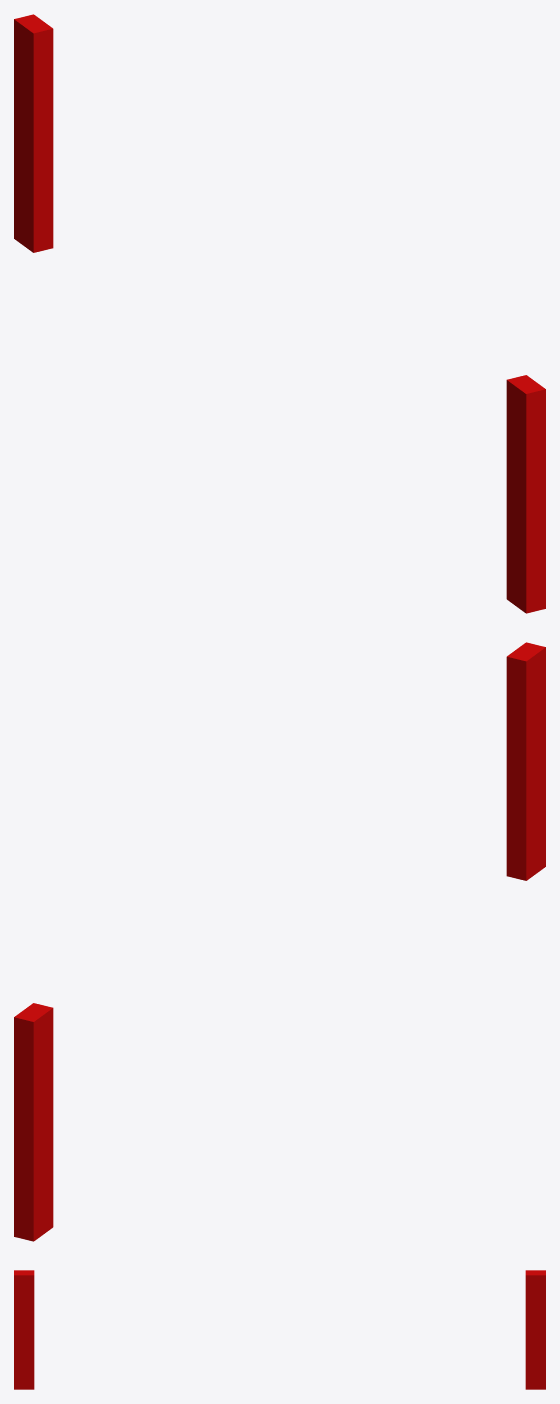
The model's file is Attic_WoodenFrame_06_LP.glb.
3 views of the same model, one above another, from view 1: azimuth 30°, elevation 25°; view 2: azimuth 150°, elevation 25°; view 3: azimuth 270°, elevation 25° (orthographic). The views are drawn at different scales.
Visible parts, largest first — view 1: Attic_WoodenFrame_06_LP; view 2: Attic_WoodenFrame_06_LP; view 3: Attic_WoodenFrame_06_LP.
Part boxes in pixels (x1,y1,x2,y2): Attic_WoodenFrame_06_LP: (14,14,545,613); Attic_WoodenFrame_06_LP: (14,642,545,1241); Attic_WoodenFrame_06_LP: (14,1270,545,1389).
Bounding box in the file's own units: 0.1483 × 1.57 × 6.64.
